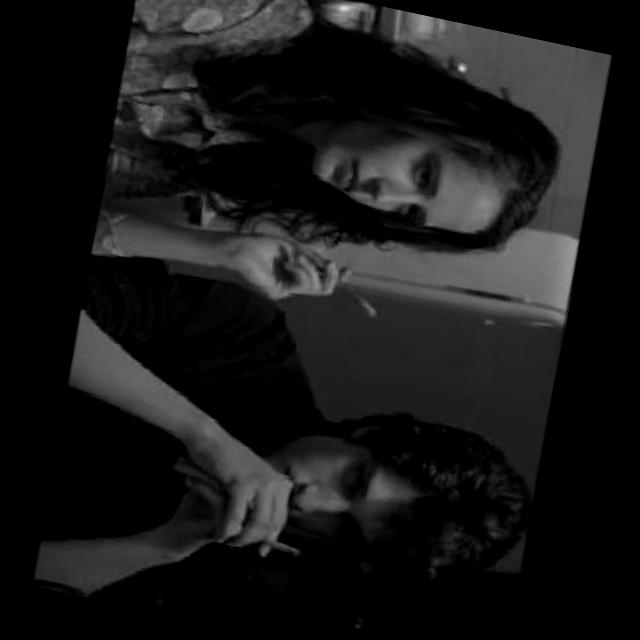smoke: (328, 274, 383, 322), (260, 534, 302, 560)
